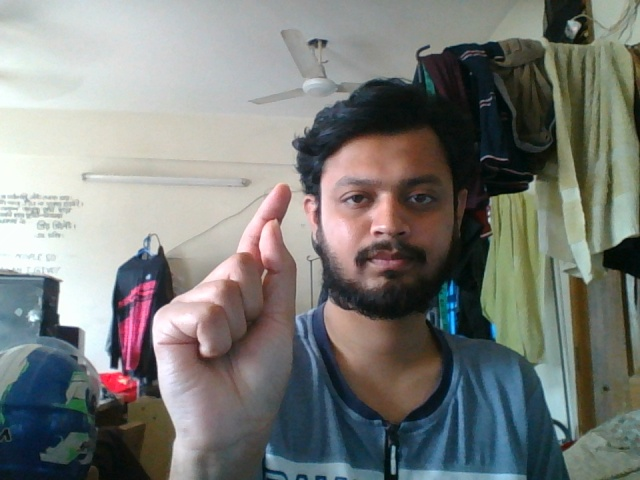tha: (152, 176, 307, 461)
